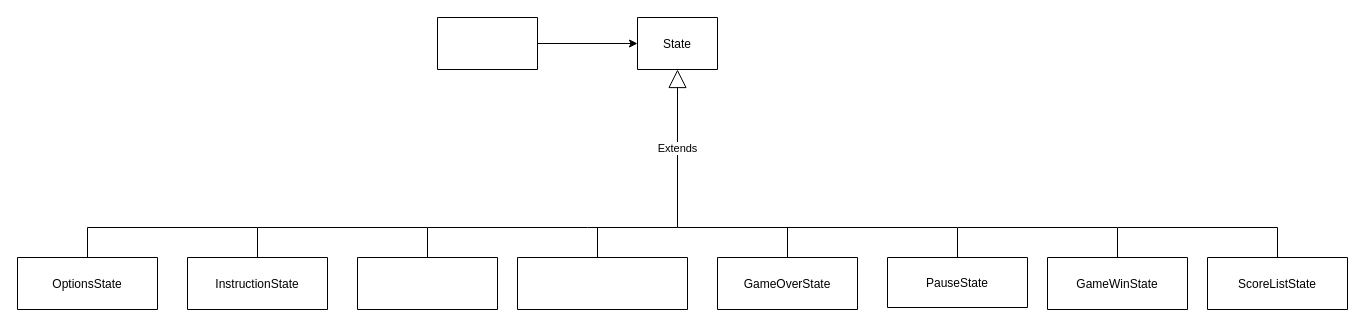
Some shapes in this 1365 by 327 pixel diagram are drawn without their labels. The centre of each missing label's shape, as x and y in pixels:
Game: the point at 487,43
GameState: the point at 602,283
MenuState: the point at 427,283
